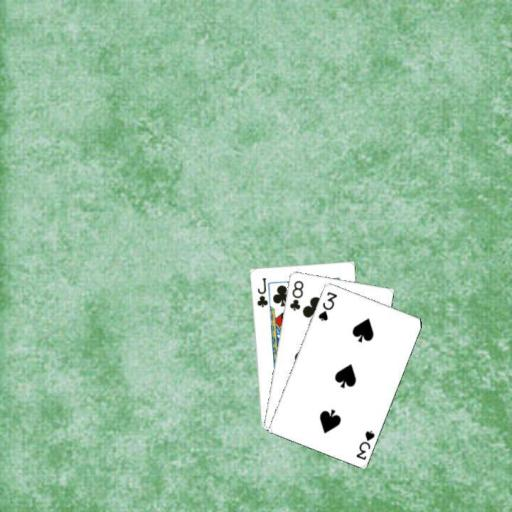3S: (315, 288, 339, 322), (353, 427, 376, 462)
8C: (287, 277, 305, 312)
JC: (253, 275, 269, 309)
